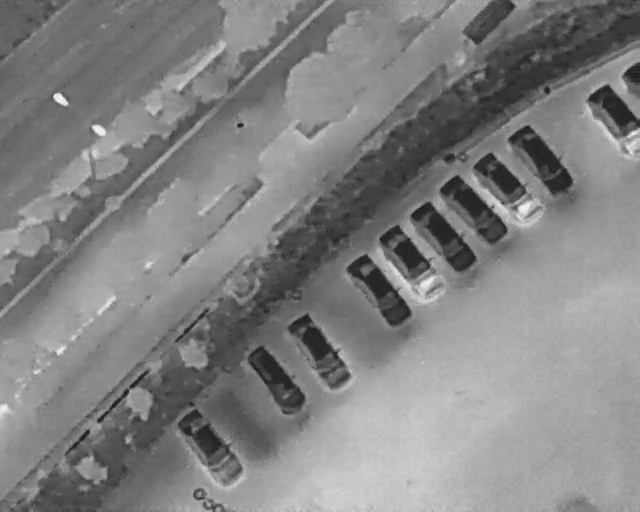Car: (169, 400, 252, 496), (371, 217, 454, 310), (465, 144, 550, 232), (280, 305, 359, 399), (401, 193, 483, 280), (433, 168, 515, 252), (340, 247, 419, 334), (502, 117, 581, 202), (237, 337, 314, 424), (585, 83, 639, 159), (620, 59, 639, 98)
